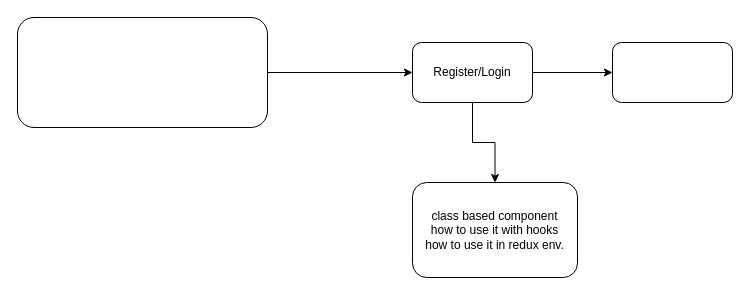
This 750x295 diagram has some shape labels left out. The box of each missing label's shape, as (x1, y1, x2, y2) in pixels:
Dashboard: (612, 42, 732, 102)
Home Page.: (16, 16, 268, 128)
